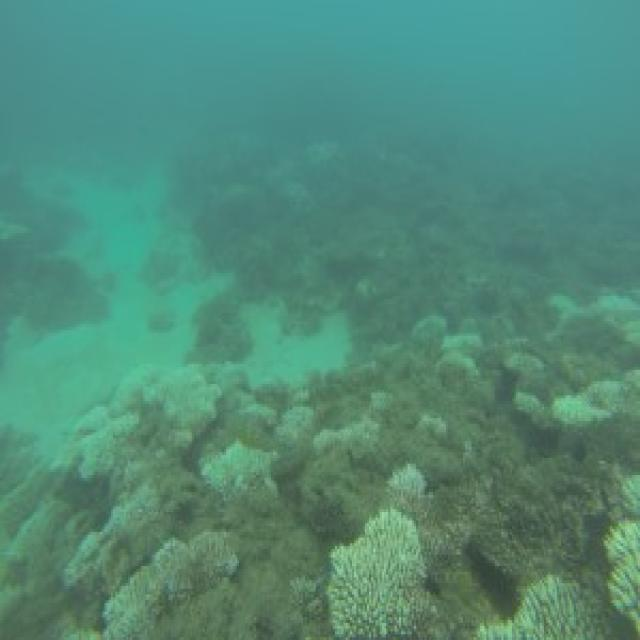Bleached: (327, 510, 426, 638), (477, 576, 603, 638), (605, 522, 639, 632)
Healthy: (22, 322, 639, 638), (383, 362, 594, 621)
